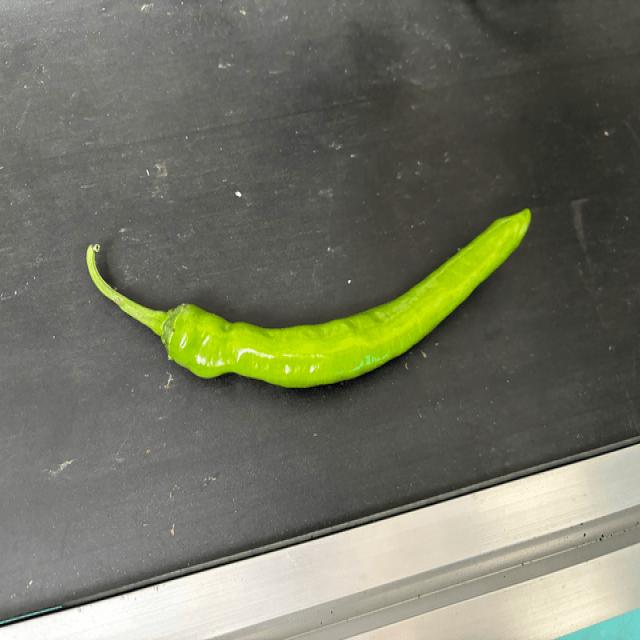chili: (159, 204, 535, 390)
